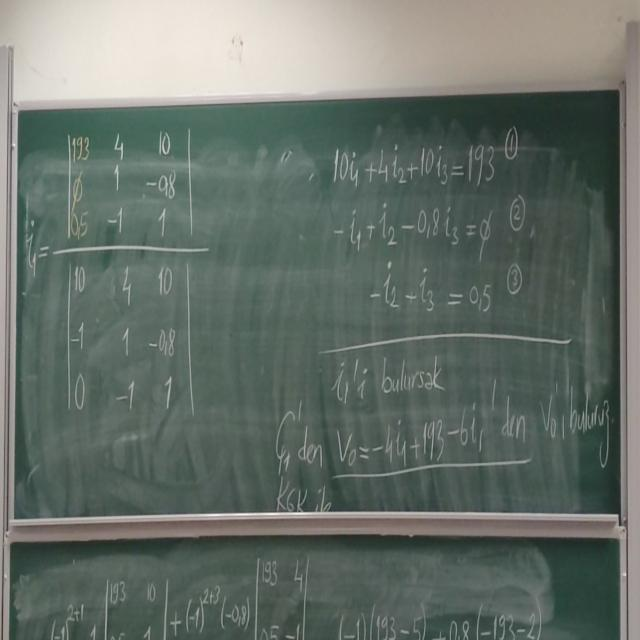math: (326, 133, 530, 314), (60, 260, 196, 427), (46, 122, 200, 245), (180, 552, 312, 631), (326, 409, 483, 469), (331, 596, 543, 640), (97, 562, 168, 606)
text: (493, 384, 616, 467), (326, 344, 445, 396)
